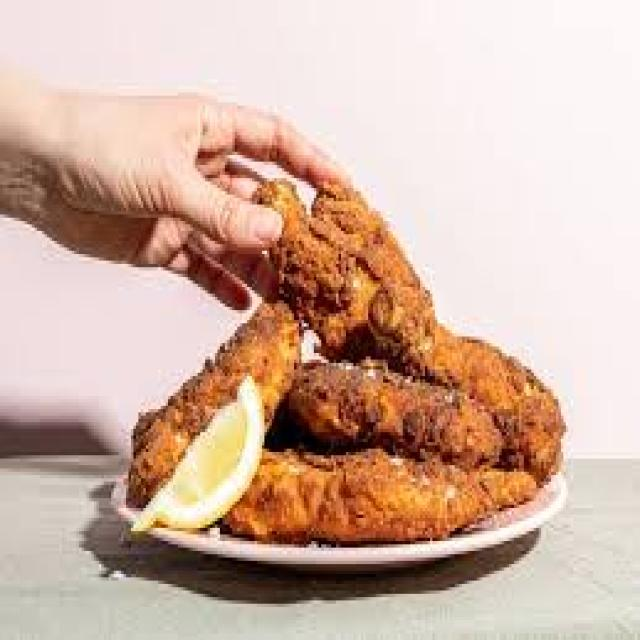Frango: (119, 168, 576, 541)
